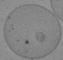small: (35, 32, 46, 42)
